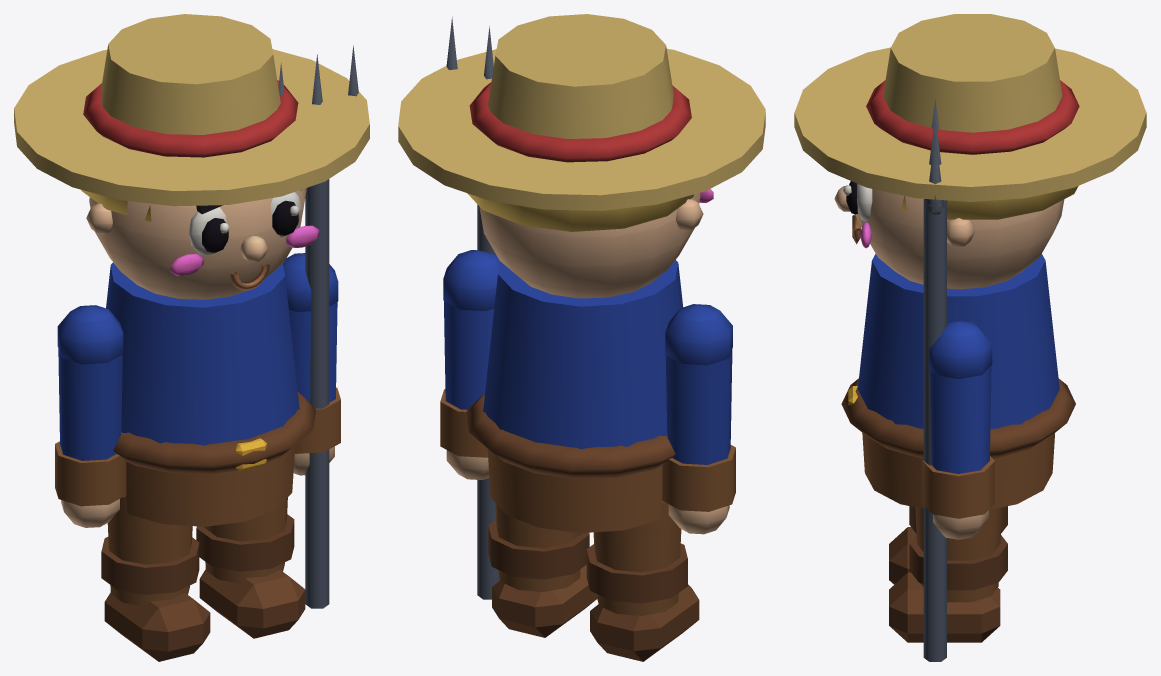
The model's file is hero_harvey.glb.
The picture shows the model from 3 angles, left to right: view 1: azimuth 30°, elevation 25°; view 2: azimuth 150°, elevation 25°; view 3: azimuth 270°, elevation 25°; orthographic projection. The views are drawn at different scales.
Visible parts, largest first — view 1: body_t0_palette, armr_t0_palette, arml_t0_palette, legl_t0_palette, legr_t0_palette; view 2: body_t0_palette, arml_t0_palette, armr_t0_palette, legl_t0_palette, legr_t0_palette; view 3: body_t0_palette, armr_t0_palette, legr_t0_palette, legl_t0_palette.
Part boxes in pixels (x1,y1,x2,y2): body_t0_palette: (14,14,369,526); armr_t0_palette: (278,45,358,608); arml_t0_palette: (55,305,126,527); legl_t0_palette: (101,496,210,661); legr_t0_palette: (196,497,305,638); body_t0_palette: (398,14,765,532); arml_t0_palette: (662,304,735,534); armr_t0_palette: (440,17,500,599); legl_t0_palette: (586,501,699,661); legr_t0_palette: (488,503,597,637); body_t0_palette: (794,14,1146,509); armr_t0_palette: (922,99,994,661); legr_t0_palette: (889,507,1007,642); legl_t0_palette: (889,506,1007,584).
Size of the model in its own units: 0.3 by 0.53 by 0.3.
